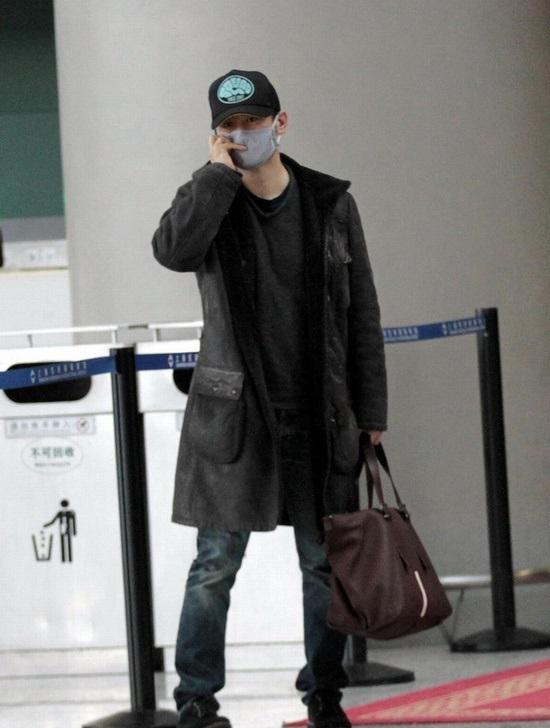OK: (212, 105, 277, 170)
